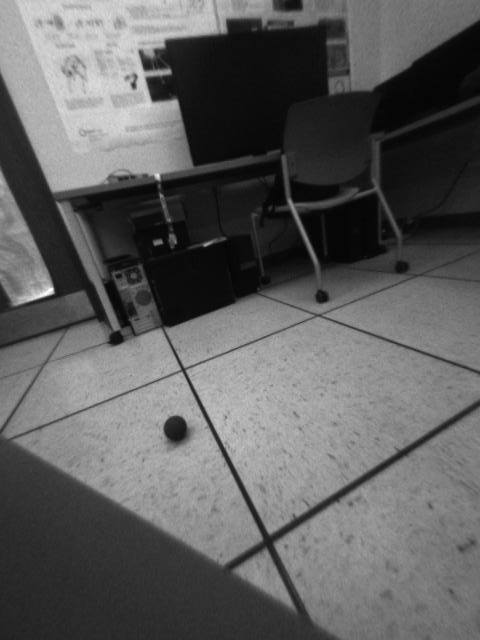dogtoy: (159, 409, 195, 446)
